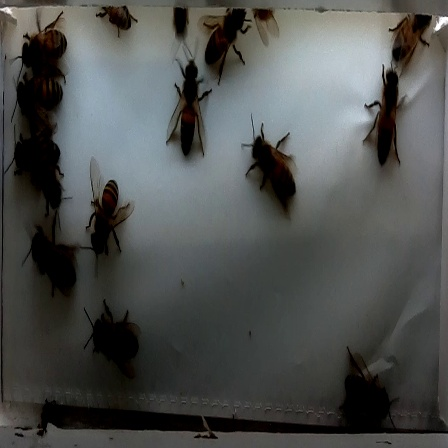bee: (230, 116, 312, 218), (322, 354, 409, 430), (73, 301, 161, 376), (75, 163, 136, 266), (13, 219, 86, 300), (164, 47, 213, 163), (361, 66, 412, 175), (6, 138, 75, 218), (6, 13, 84, 83), (199, 6, 258, 88), (6, 66, 88, 121), (381, 5, 439, 73)
